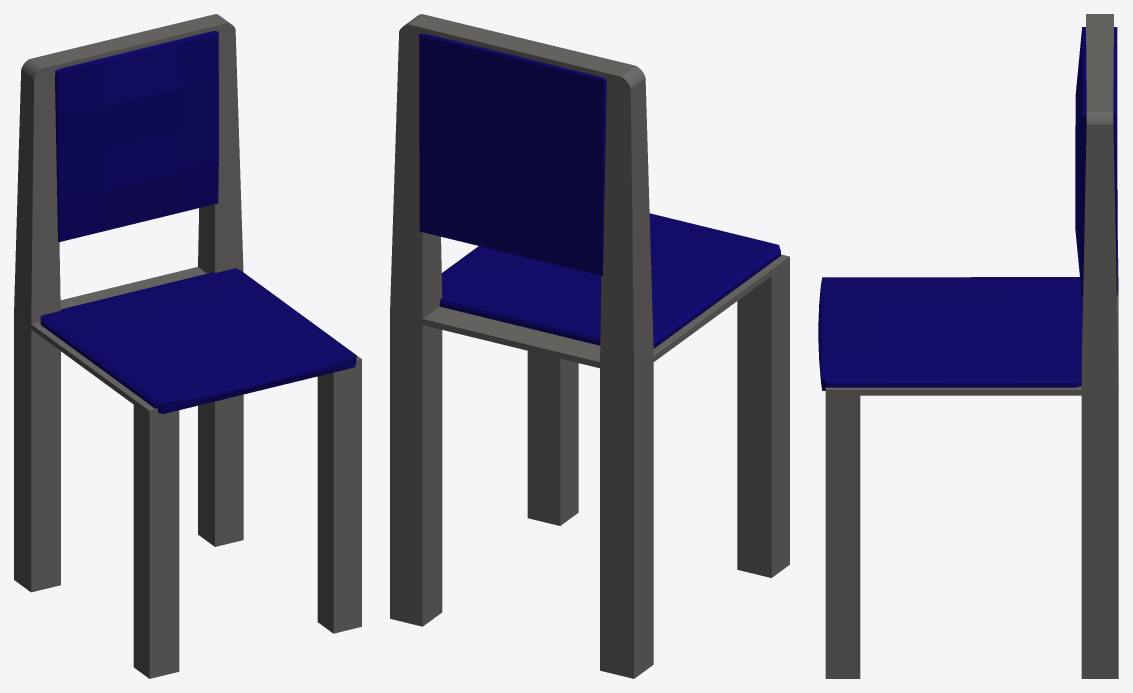
File: ChairLeather.fbx
3 renders of one model, left to right at view 1: azimuth 30°, elevation 25°; view 2: azimuth 150°, elevation 25°; view 3: azimuth 270°, elevation 25°, orthographic. The views are drawn at different scales.
Parts seen in each view (by area): view 1: Cube, Cube.001, Cube.002; view 2: Cube, Cube.001, Cube.002; view 3: Cube, Cube.002, Cube.001.
Part boxes in pixels (bbox=[...]): Cube: bbox=[14, 14, 361, 678]; Cube.001: bbox=[54, 31, 219, 241]; Cube.002: bbox=[40, 268, 356, 414]; Cube: bbox=[390, 14, 789, 678]; Cube.001: bbox=[418, 33, 606, 275]; Cube.002: bbox=[439, 213, 780, 348]; Cube: bbox=[825, 14, 1118, 678]; Cube.002: bbox=[818, 277, 1082, 390]; Cube.001: bbox=[1075, 27, 1117, 295].
Bounding box in the file's own units: 429 × 1003 × 486.
